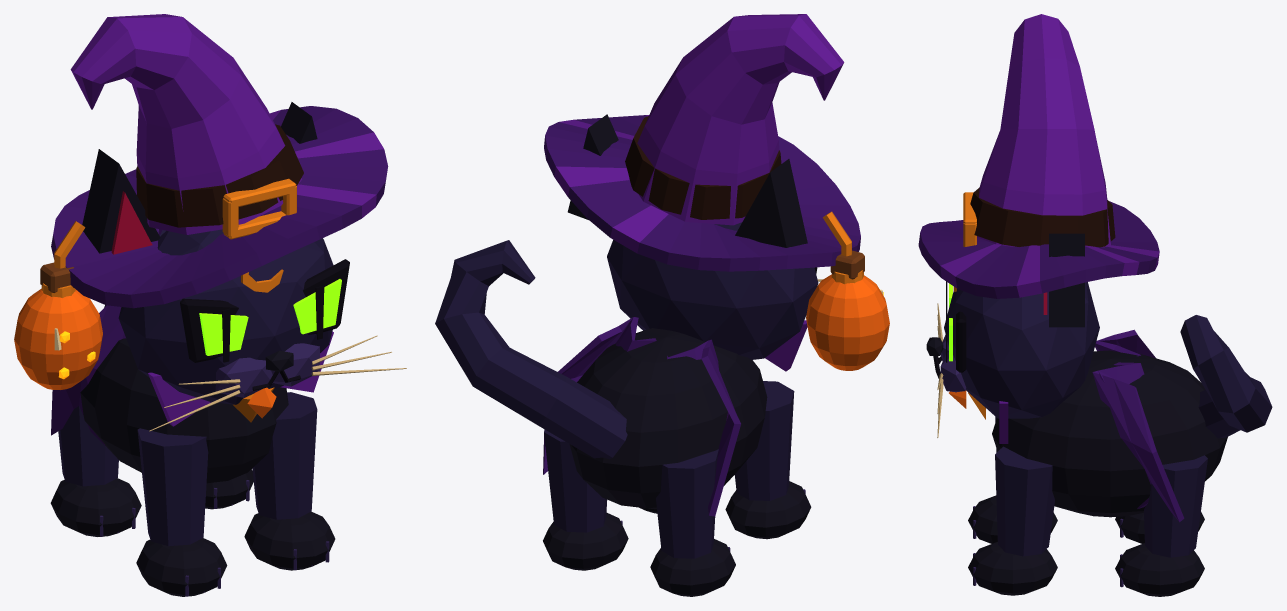
The model's file is HexCat.glb.
The picture shows the model from 3 angles, left to right: view 1: azimuth 30°, elevation 25°; view 2: azimuth 150°, elevation 25°; view 3: azimuth 270°, elevation 25°; orthographic projection. The views are drawn at different scales.
Visible parts, largest first — view 1: Bent witch hat cone, Wide crooked hat brim, Witch cat head, Cat torso, Fore leg-1, Orange potion flask, Fore leg1, Leather hat band, Cat paw1False, Cat paw-1False, Cat paw-1True, Cat pointed ear-1 (+18 smaller); view 2: Bent witch hat cone, Cat torso, Wide crooked hat brim, Cat curled tail, Witch cat head, Orange potion flask, Hind leg-1.001, Leather hat band, Witch shoulder mantle, Fore leg-1, Hind leg1.001, Cat pointed ear-1 (+6 smaller); view 3: Cat torso, Bent witch hat cone, Witch cat head, Wide crooked hat brim, Cat curled tail, Fore leg1, Witch shoulder mantle, Leather hat band, Hind leg1.001, Cat paw1False, Cat paw1True, Cat pointed ear1 (+4 smaller).
Boxes of the visible parts, x1,y1,x2,y2 form: Bent witch hat cone: (70, 14, 301, 234); Wide crooked hat brim: (51, 106, 388, 308); Witch cat head: (118, 229, 333, 404); Cat torso: (80, 338, 288, 483); Fore leg-1: (137, 428, 208, 546); Orange potion flask: (14, 289, 102, 389); Fore leg1: (252, 392, 317, 519); Leather hat band: (136, 124, 303, 227); Cat paw1False: (244, 511, 335, 570); Cat paw-1False: (136, 538, 227, 596); Cat paw-1True: (50, 478, 141, 536); Cat pointed ear-1: (82, 149, 160, 253); Bent witch hat cone: (637, 14, 844, 225); Cat torso: (569, 328, 767, 509); Wide crooked hat brim: (544, 115, 860, 271); Cat curled tail: (435, 240, 627, 459); Witch cat head: (607, 222, 818, 359); Orange potion flask: (806, 274, 889, 370); Hind leg-1.001: (656, 449, 718, 558); Leather hat band: (625, 116, 781, 219); Witch shoulder mantle: (543, 317, 740, 516); Fore leg-1: (734, 381, 794, 500); Hind leg1.001: (544, 429, 607, 532); Cat pointed ear-1: (735, 159, 807, 247); Cat torso: (992, 350, 1227, 517); Bent witch hat cone: (977, 14, 1110, 247); Witch cat head: (944, 282, 1099, 418); Wide crooked hat brim: (918, 201, 1159, 298); Cat curled tail: (1180, 315, 1272, 438); Fore leg1: (995, 446, 1054, 556); Witch shoulder mantle: (1092, 329, 1184, 522); Leather hat band: (970, 187, 1115, 247); Hind leg1.001: (1144, 455, 1207, 557); Cat paw1False: (968, 541, 1057, 595); Cat paw1True: (1115, 543, 1204, 596); Cat pointed ear1: (1049, 233, 1084, 327).
Bounding box in the file's own units: 2.51 × 3.74 × 2.36.
